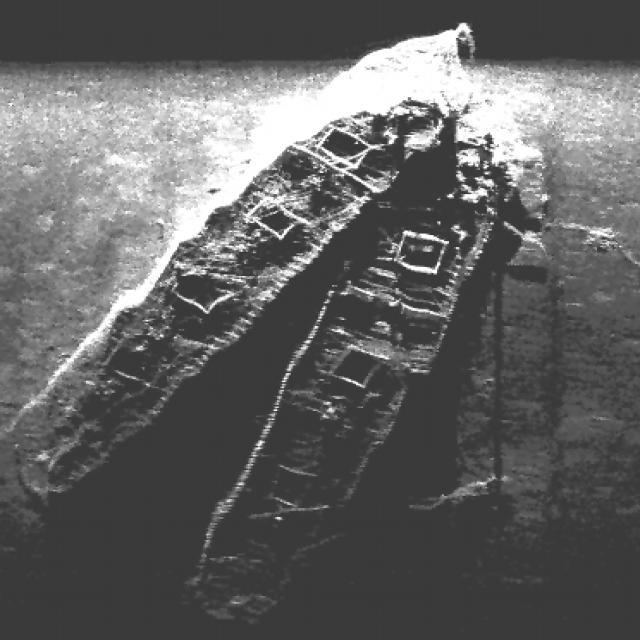shipwreck: (11, 9, 472, 508), (170, 144, 535, 622)
